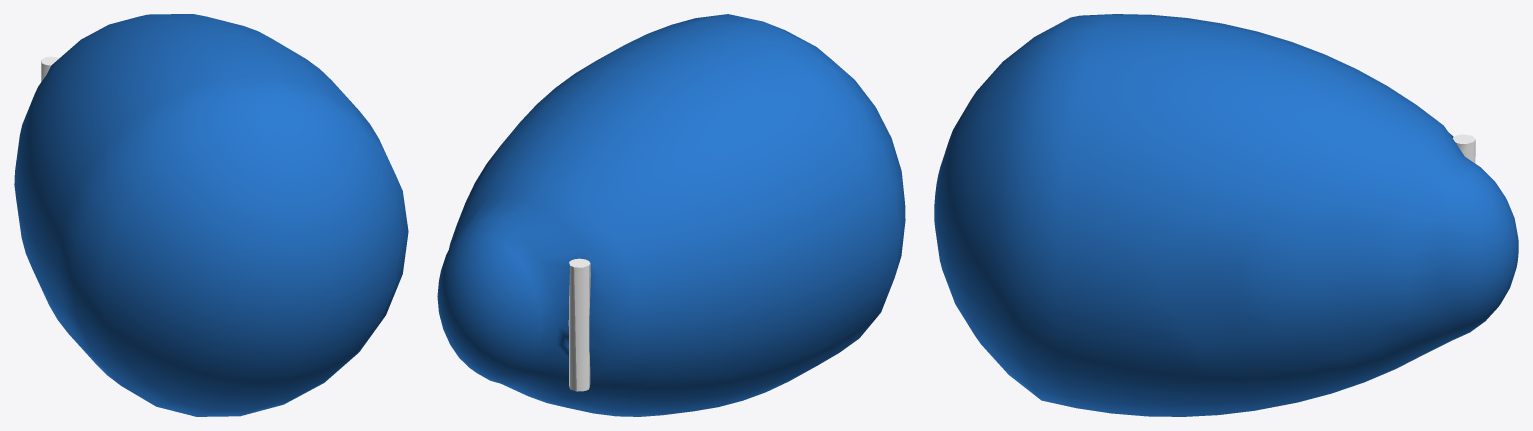
The model's file is head.obj.
The picture shows the model from 3 angles, left to right: view 1: azimuth 30°, elevation 25°; view 2: azimuth 150°, elevation 25°; view 3: azimuth 270°, elevation 25°; orthographic projection. The views are drawn at different scales.
Visible parts, largest first — view 1: Mesh1 Model; view 2: Mesh1 Model; view 3: Mesh1 Model.
Boxes of the visible parts, x1,y1,x2,y2 form: Mesh1 Model: (14,14,408,416); Mesh1 Model: (437,14,905,416); Mesh1 Model: (934,14,1518,416).
Size of the model in its own units: 0.0961 by 0.0929 by 0.1352.
